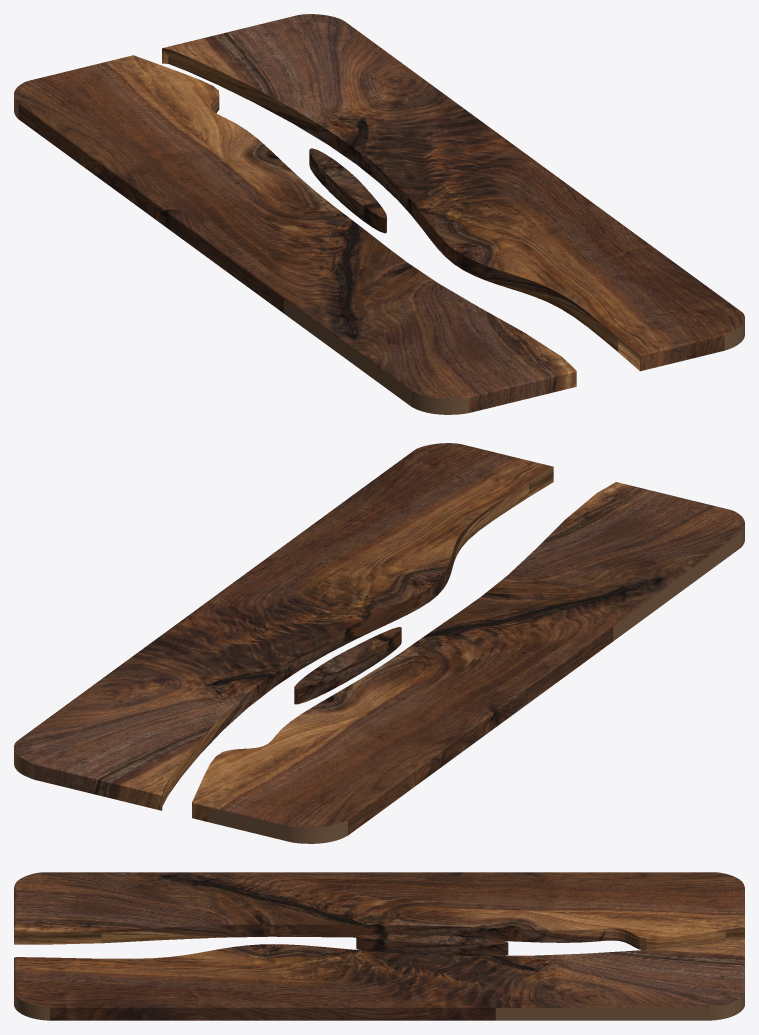
File: tabletop-wood-rounded-corners-source.glb
The picture shows the model from 3 angles, top to bottom: view 1: azimuth 30°, elevation 25°; view 2: azimuth 150°, elevation 25°; view 3: azimuth 270°, elevation 25°; orthographic projection. The views are drawn at different scales.
Visible parts, largest first — view 1: tabletop_wood_rounded_corners_source; view 2: tabletop_wood_rounded_corners_source; view 3: tabletop_wood_rounded_corners_source.
Boxes of the visible parts, left/top/right/bottom form: tabletop_wood_rounded_corners_source: left=14, top=14, right=744, bottom=414; tabletop_wood_rounded_corners_source: left=14, top=443, right=744, bottom=843; tabletop_wood_rounded_corners_source: left=14, top=872, right=744, bottom=1020.
Size of the model in its own units: 1.07 by 0.0508 by 2.44.
Materials: 1 (1 with a texture image).
